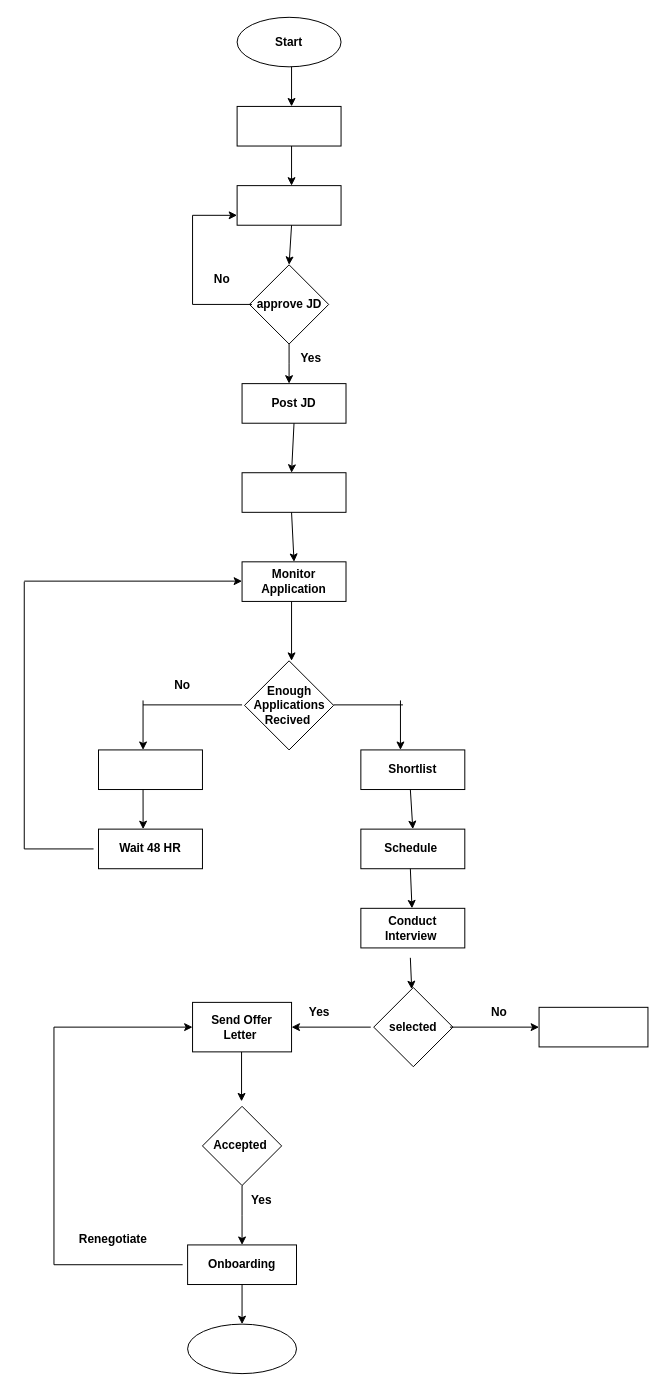
Image size: 665x1391. Some labels were removed from this diagram. The shapes that lost their labels are listed below. From the top down, each one's centre as x and y in pixels, then its label:
[288,125]: Hiring Request
[288,205]: Create JD
[293,492]: Wait 7 days
[150,769]: Modify JD
[593,1026]: Regret Email
[242,1348]: END
